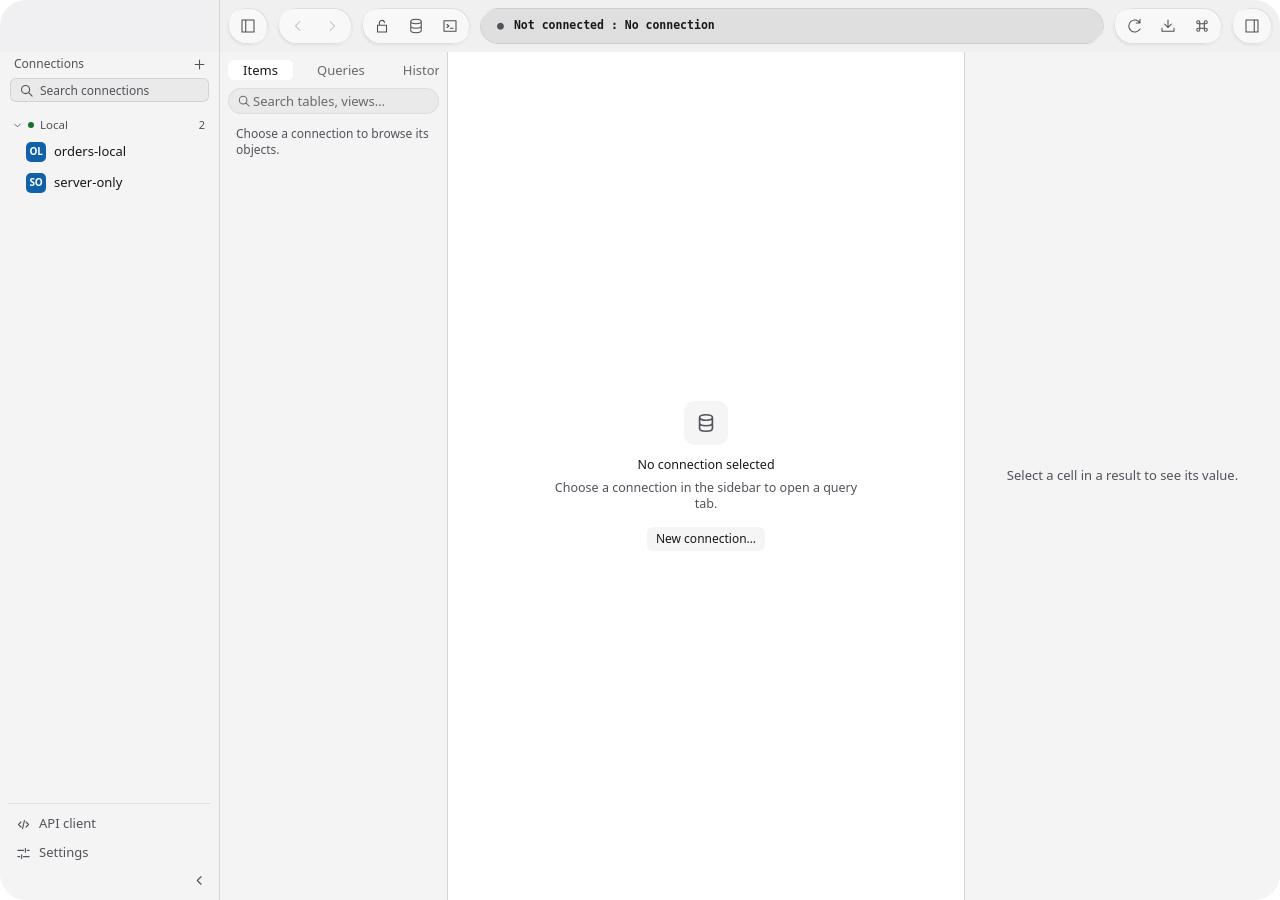
Scenario: ⌘K lists databases with search focus, hides system ones until asked and filters
Click the button "OL orders-local" at (118, 152), box [26,138,211,166]
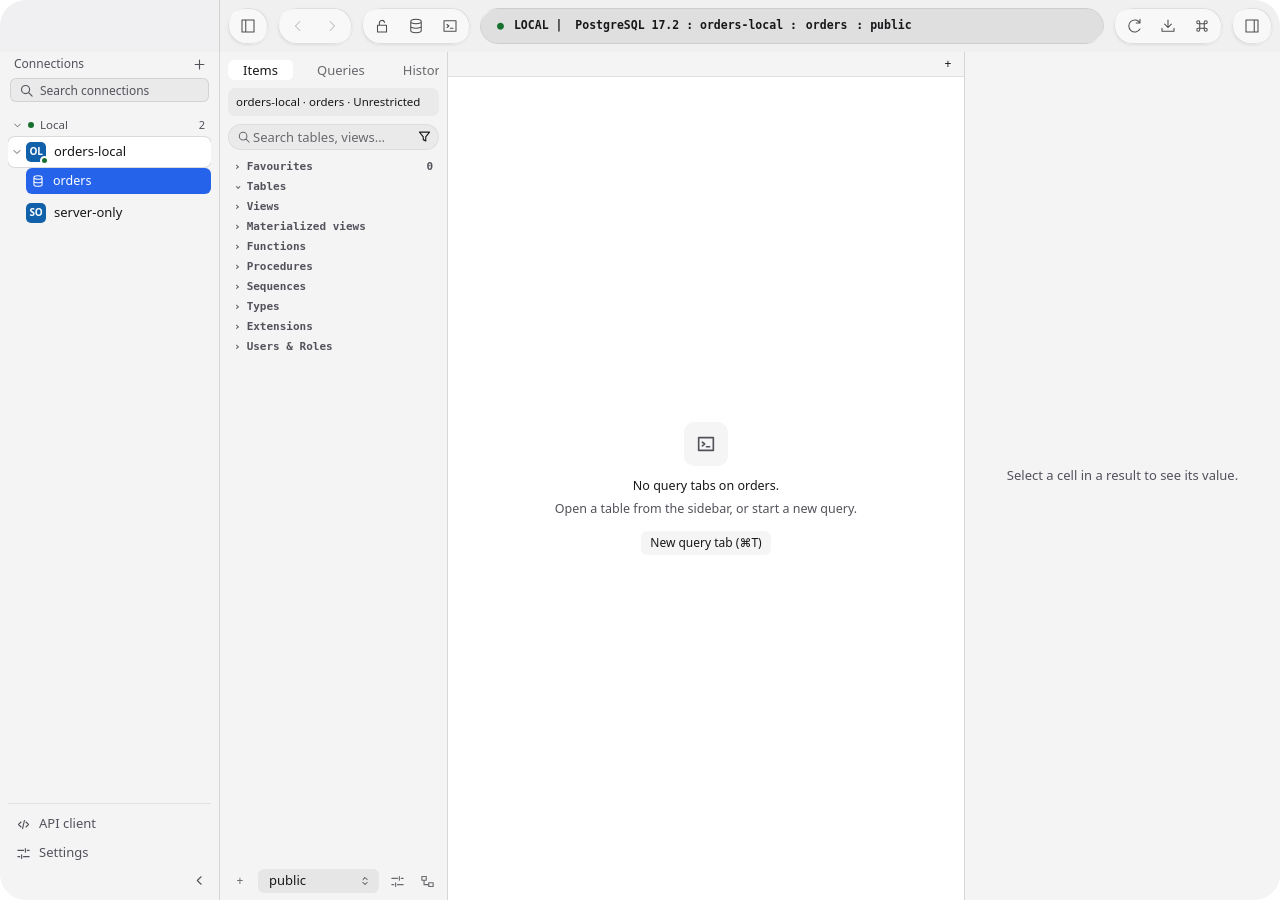
Result: the button with aria-label "Database orders" is shown at [26,168,211,194]
Result: the button "› Tables" is shown at [228,178,439,198]
Press k
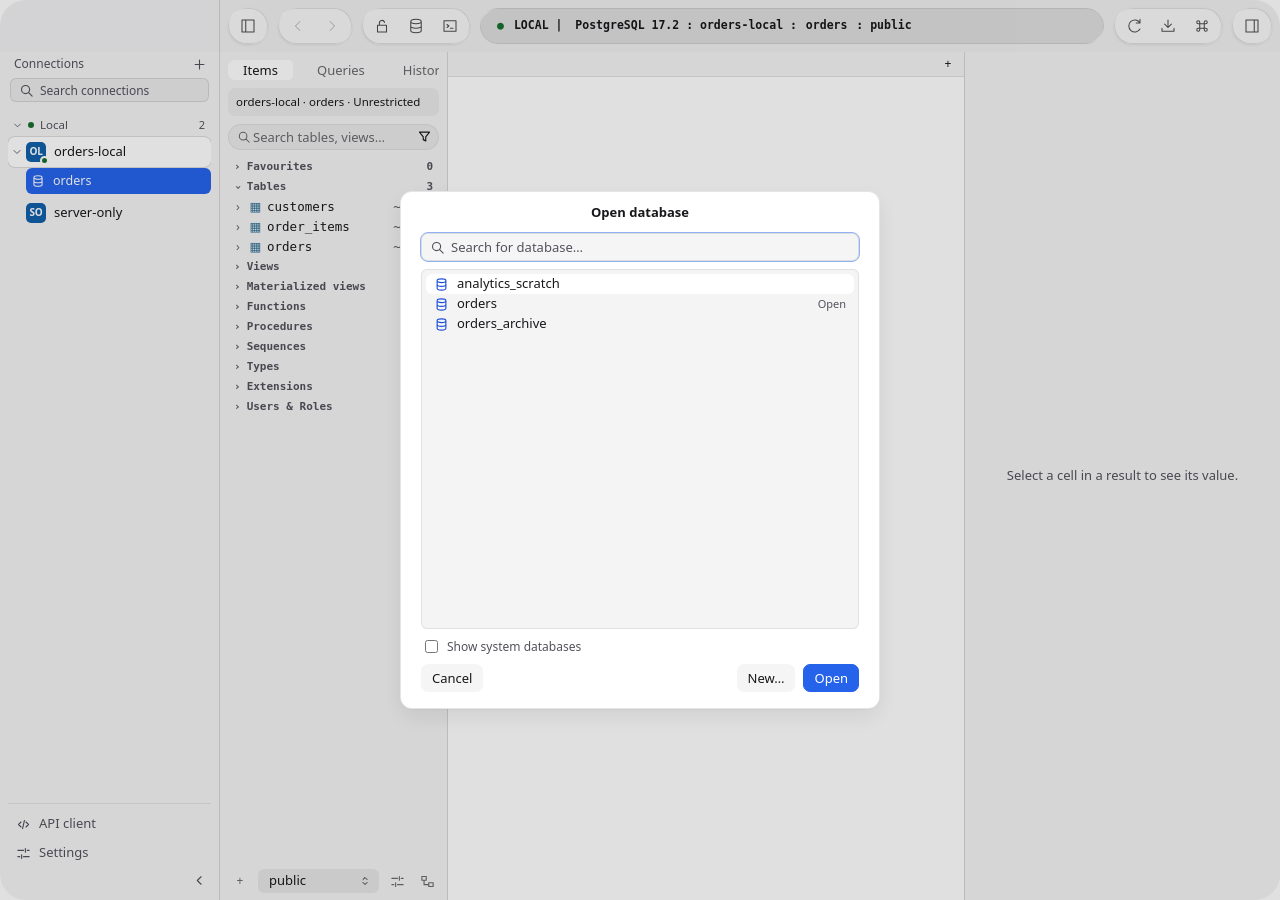
Click the checkbox labelled "Show system databases" at (432, 647), box [425,640,438,653]
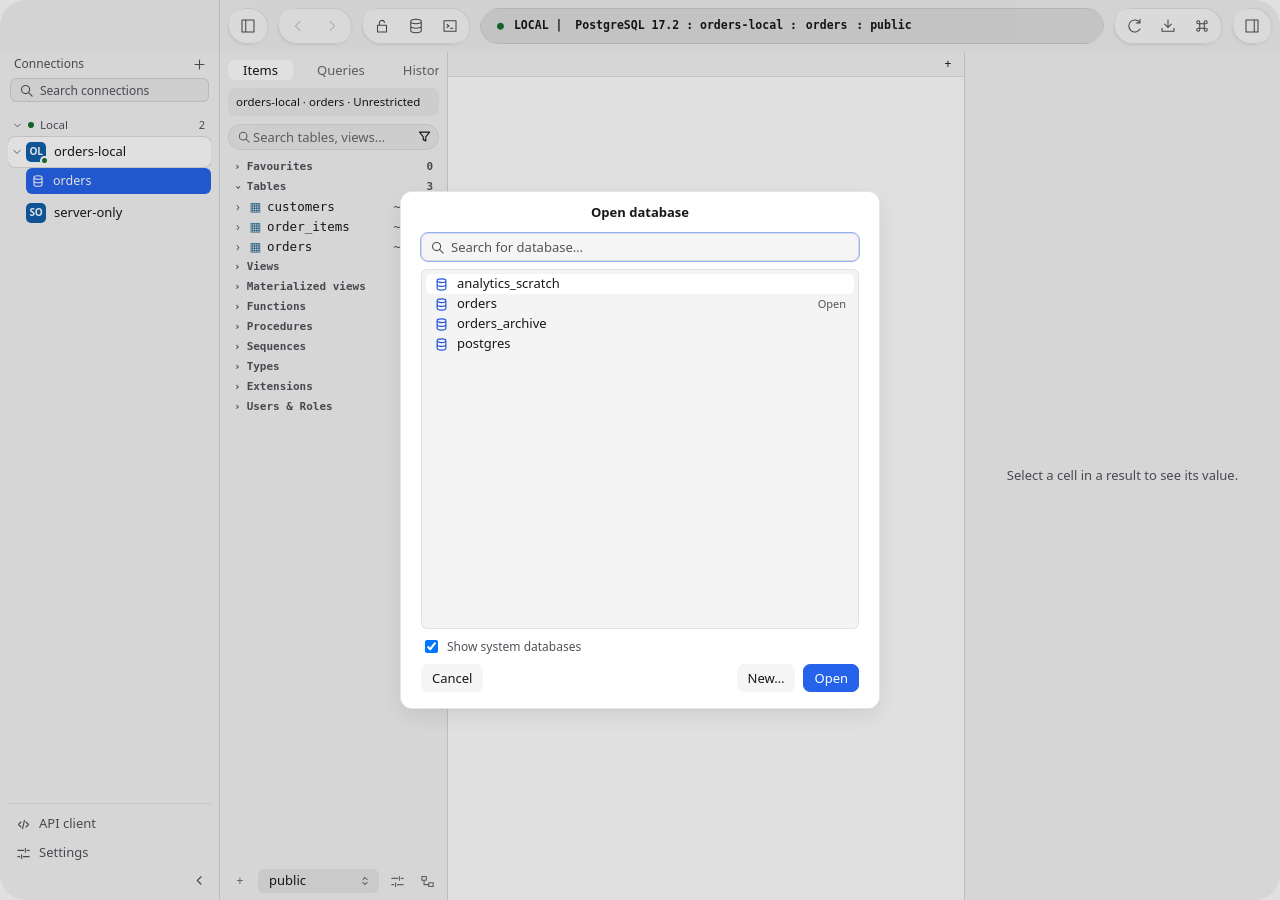
Type "ARCH" into the dropdown labelled "Search for database" at (652, 247), box [445,234,858,260]
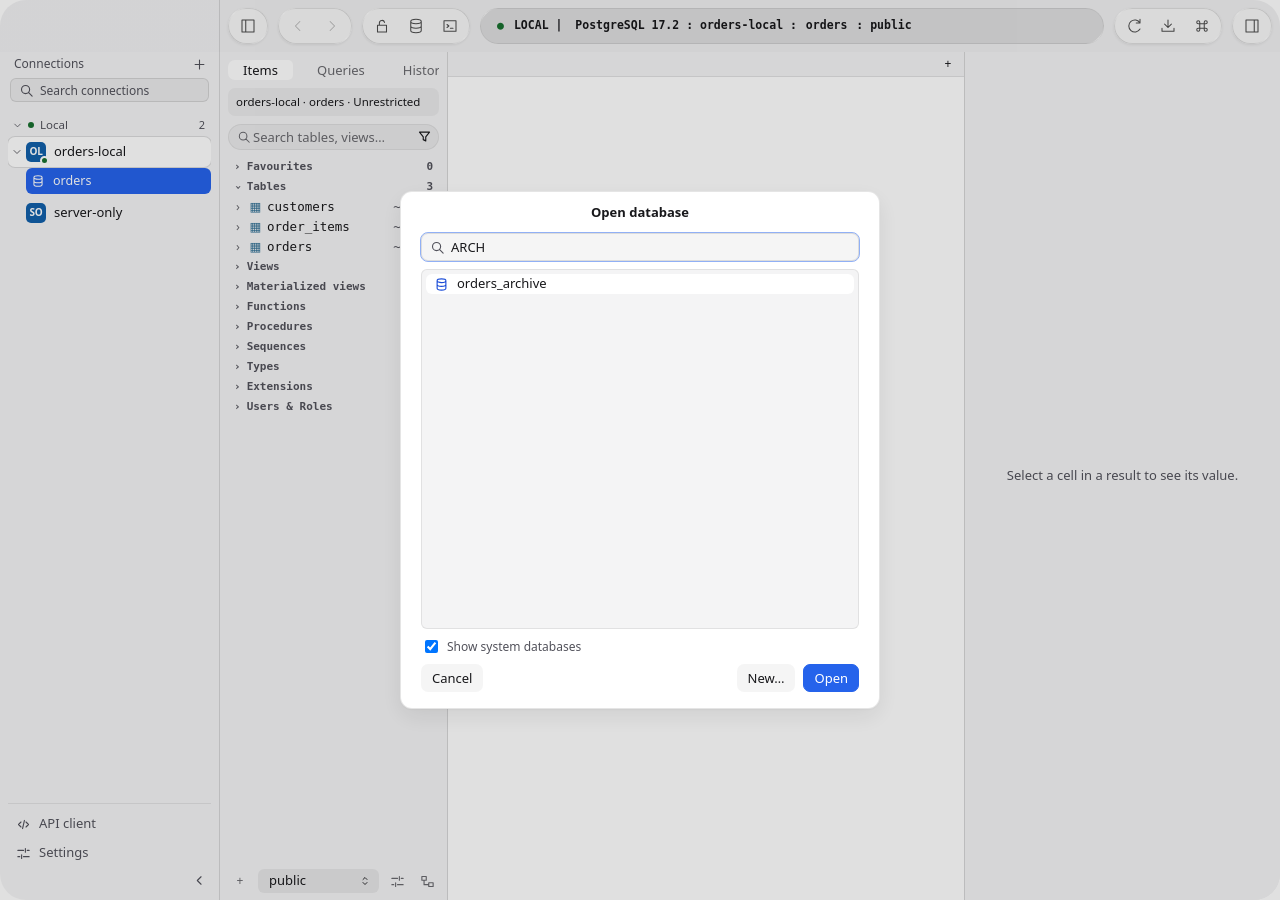
Replace the text in the dropdown named "Search for database" with "nothing" at (652, 247), box [445,234,858,260]
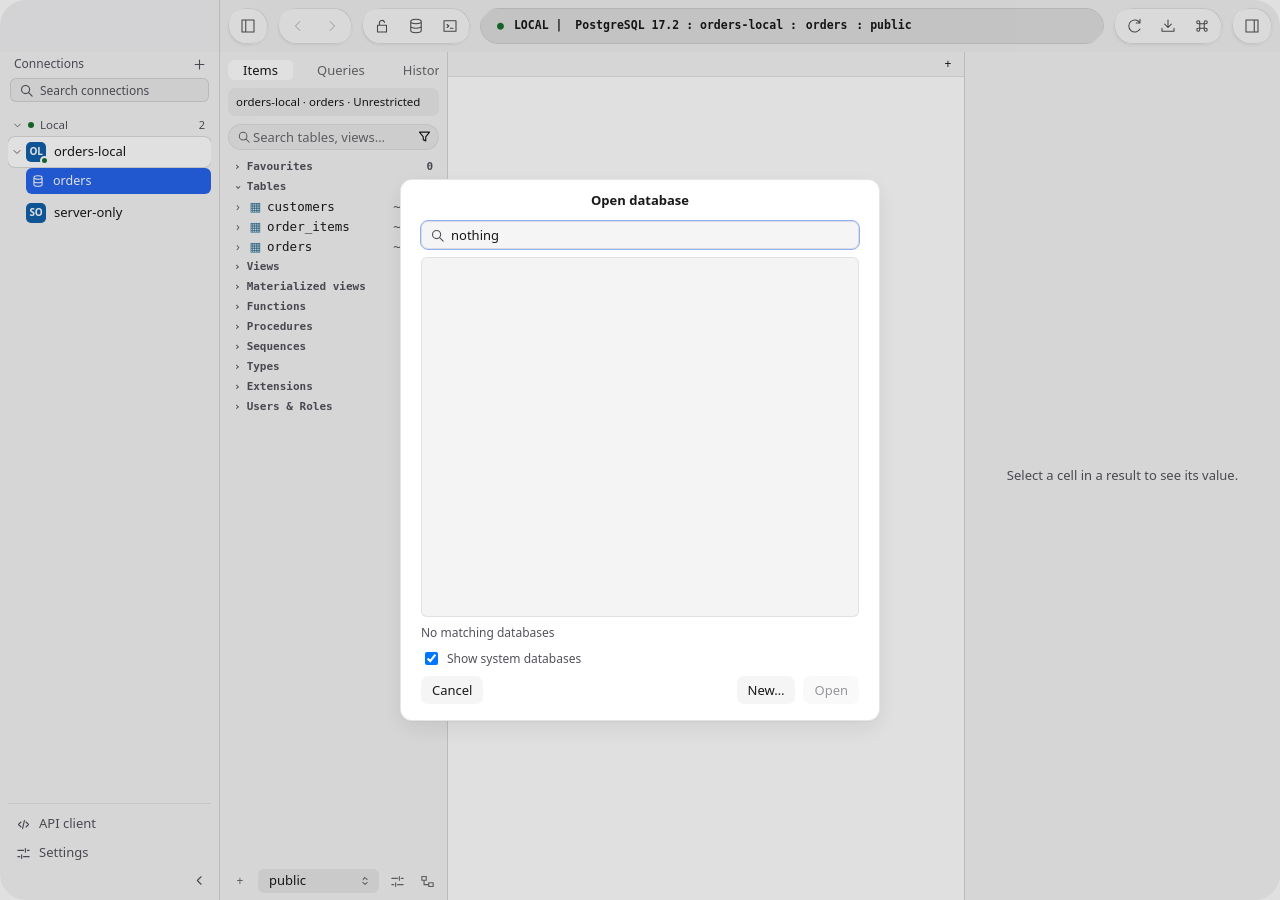
Result: the button "New…" is enabled
Result: the message reads "No matching databases" at [421,624,554,641]
Result: the button "Open" is disabled at [804,676,859,704]
Click the button "New…" at (766, 690), box [736,676,795,704]
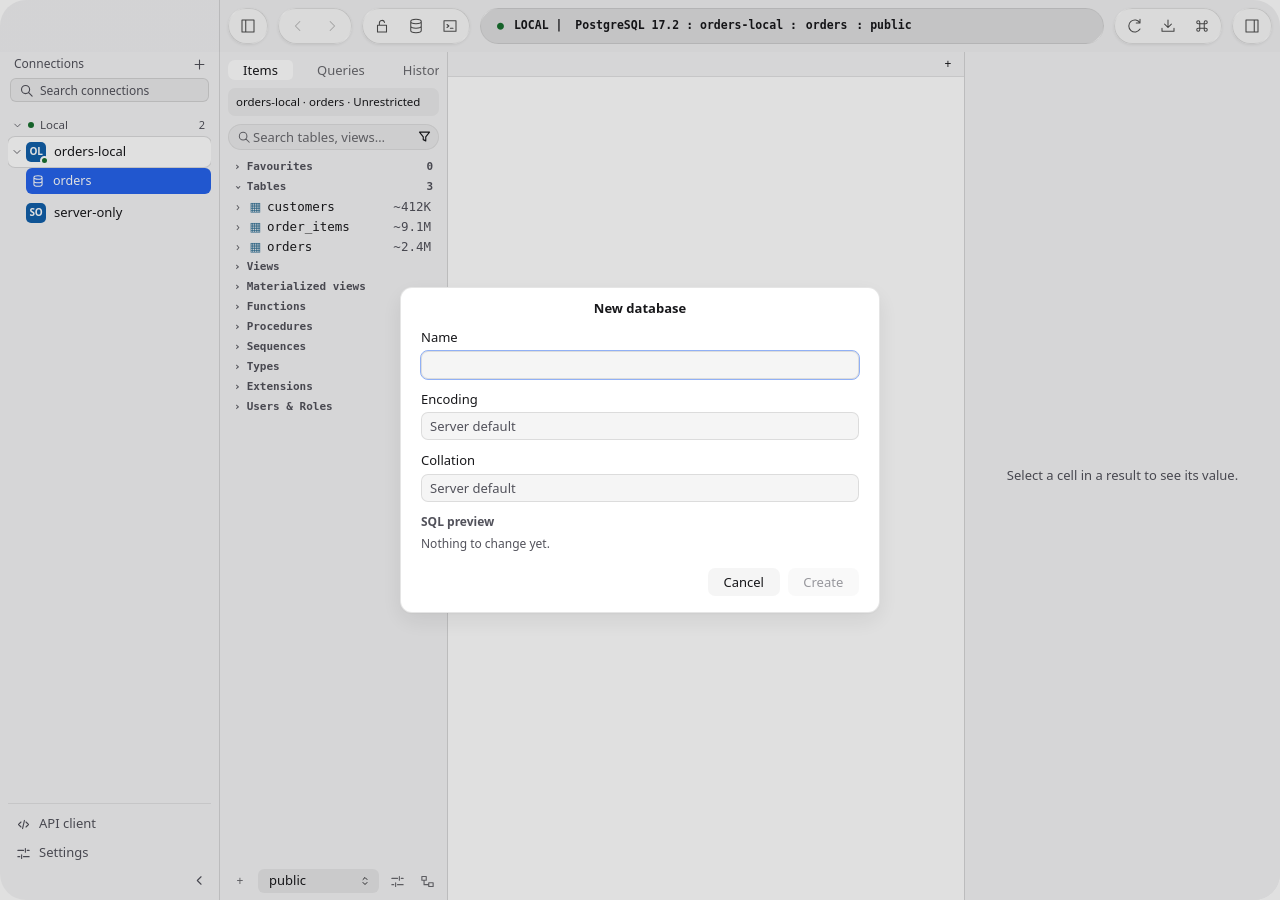
Result: the heading "Open database" is gone
Result: the dialog "New database" is shown at [400,287,880,613]
